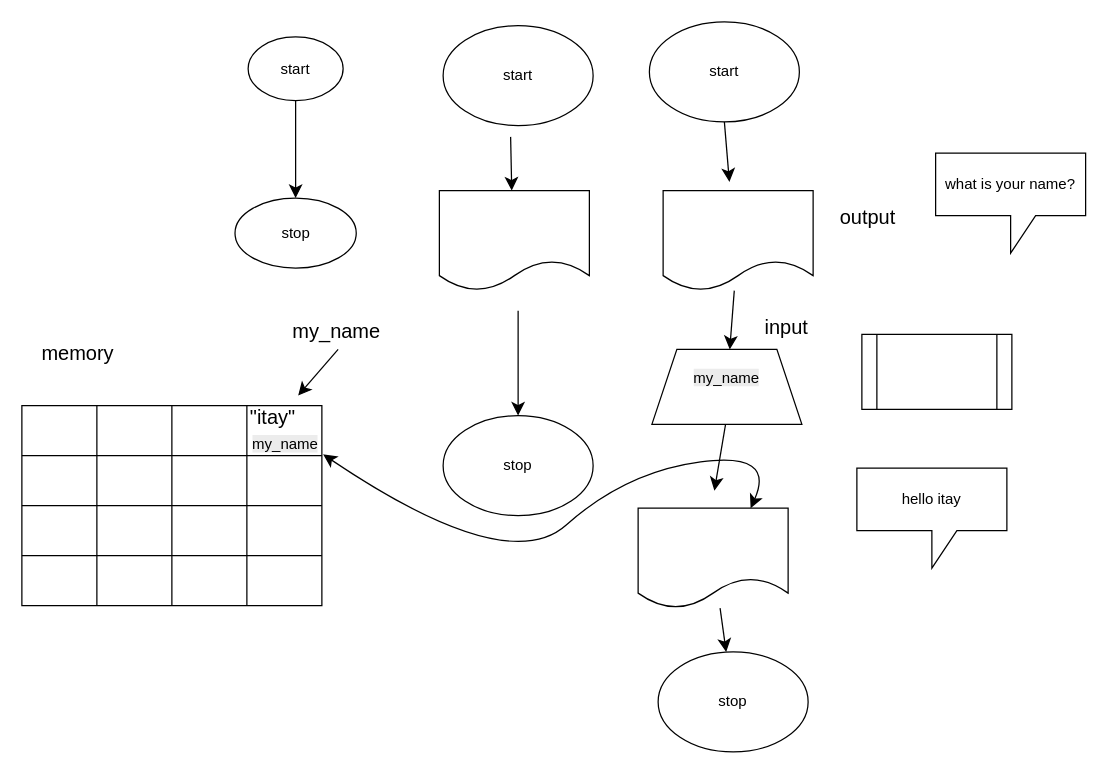
The diagram is 1108 pixels wide and 774 high, and some of its shapes have lost their labels. The shapes that lost their labels are listed below. From the top down, each one's box as (x1, y1, x2, y2) in pixels, then its label:
(438, 189, 589, 291): "hello benja"
(662, 189, 813, 291): "whats is your name?"
(861, 333, 1012, 409): keyboard answer= itay
(637, 507, 788, 608): "hello," my_name
